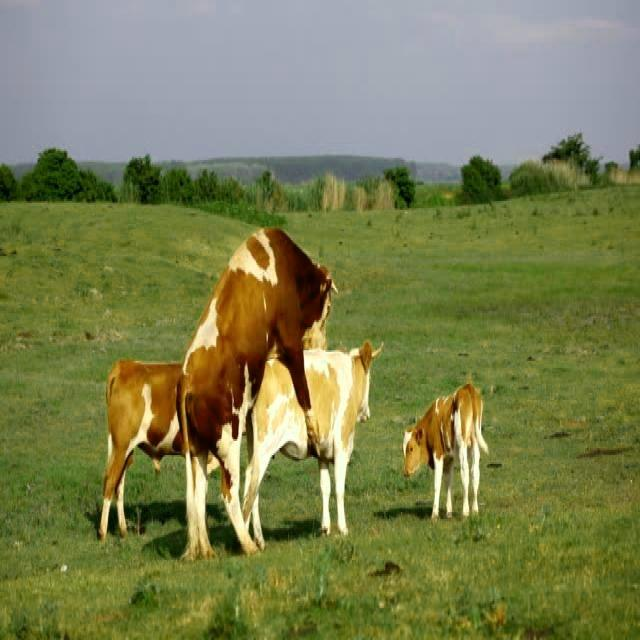cow: (179, 229, 332, 559), (99, 360, 182, 541), (304, 341, 381, 534), (242, 359, 309, 549), (404, 384, 488, 519)
